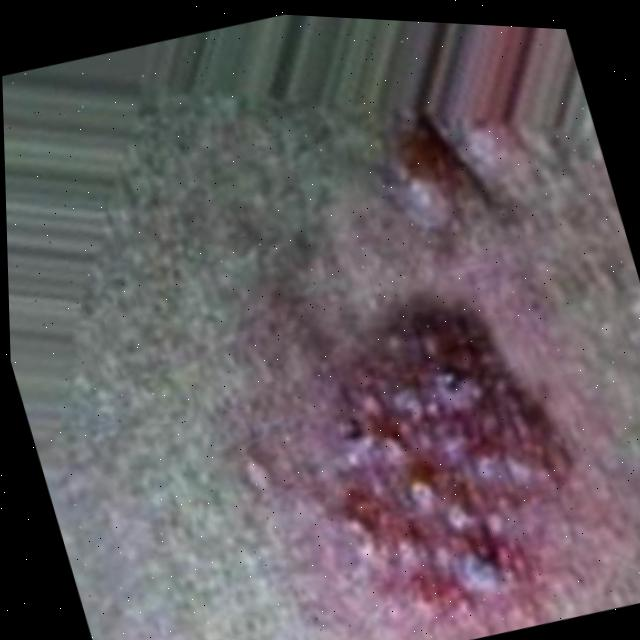Shingles: (281, 275, 597, 637)
